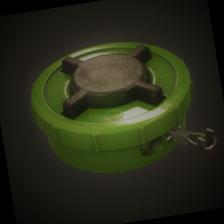PMN2: (11, 21, 224, 203)
